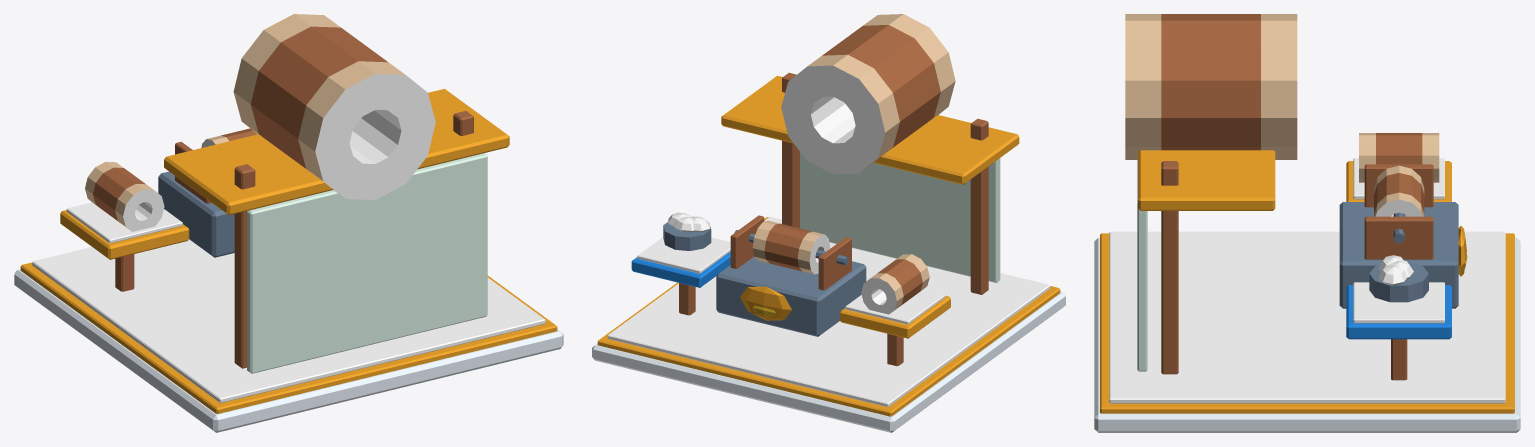
The model's file is Building_Chikuwa_2x2_v002.fbx.
3 views of the same model, side by side, from view 1: azimuth 30°, elevation 25°; view 2: azimuth 150°, elevation 25°; view 3: azimuth 270°, elevation 25° (orthographic). The views are drawn at different scales.
Parts seen in each view (by area): view 1: FixedShell, OutputItemMesh; view 2: FixedShell, ProcessFinishedMesh, OutputItemMesh, InputItemMesh, EffectPartMesh; view 3: FixedShell, OutputItemMesh, ProcessFinishedMesh, InputItemMesh.
Part boxes in pixels (bbox=[...]): FixedShell: bbox=[14, 14, 563, 432]; OutputItemMesh: bbox=[85, 162, 164, 231]; FixedShell: bbox=[592, 14, 1065, 432]; ProcessFinishedMesh: bbox=[752, 220, 829, 274]; OutputItemMesh: bbox=[861, 254, 929, 314]; InputItemMesh: bbox=[663, 212, 711, 250]; EffectPartMesh: bbox=[740, 286, 791, 320]; FixedShell: bbox=[1094, 14, 1520, 432]; OutputItemMesh: bbox=[1359, 133, 1439, 182]; ProcessFinishedMesh: bbox=[1374, 165, 1424, 216]; InputItemMesh: bbox=[1369, 255, 1428, 302].
Size of the model in its own units: 186 by 156 by 186.
